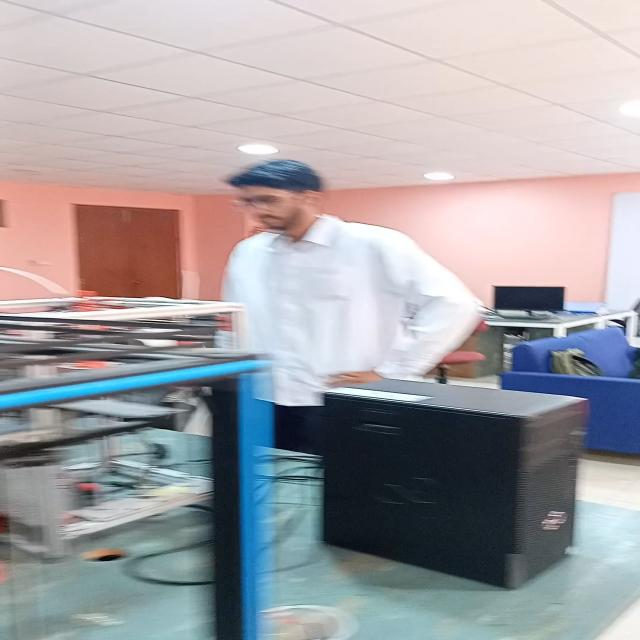dress: (230, 217, 488, 406)
